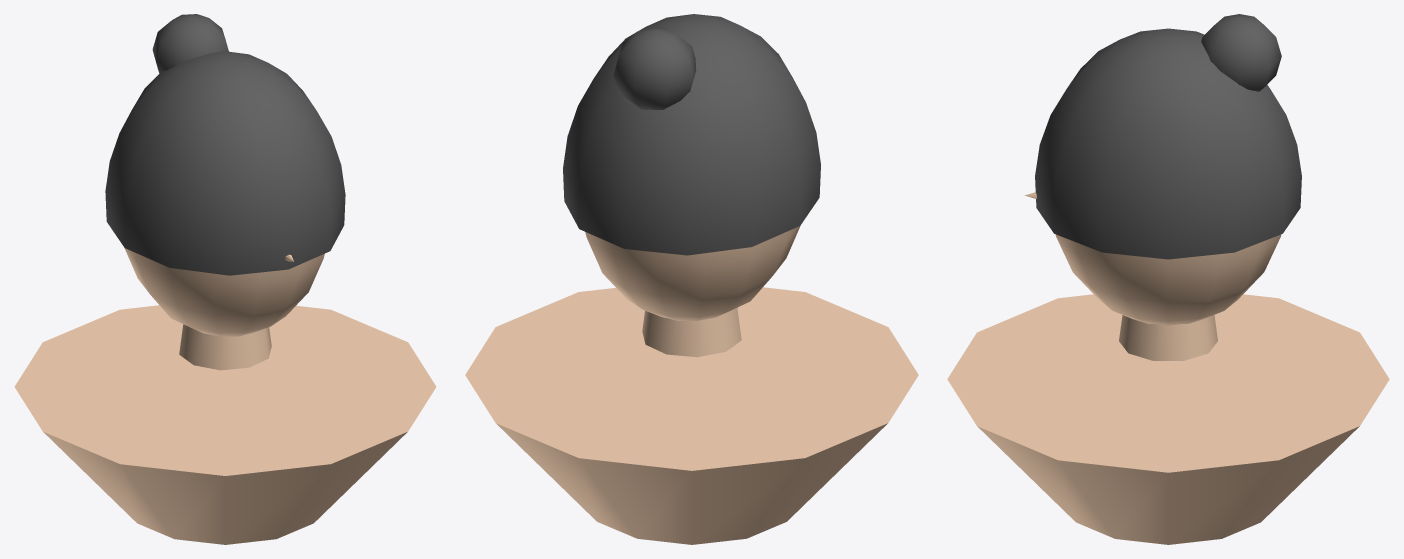
Rendered from raw_002.glb.
3 views of the same model, side by side, from view 1: azimuth 30°, elevation 25°; view 2: azimuth 150°, elevation 25°; view 3: azimuth 270°, elevation 25° (orthographic). The views are drawn at different scales.
Size of the model in its own units: 1.87 by 2.25 by 1.87.
